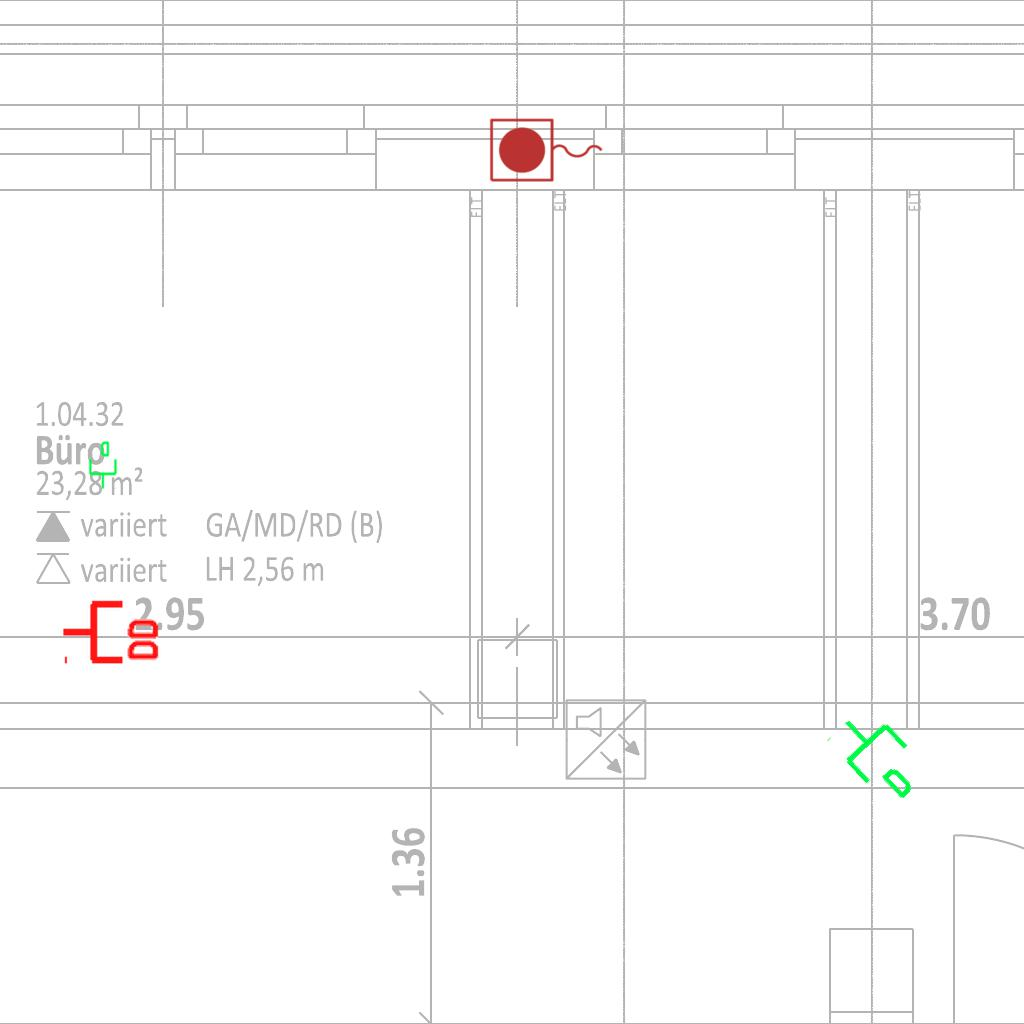Datenanschluss_einfach: (821, 694, 940, 816), (85, 440, 119, 490)
Datenanschluss_zweifach: (60, 596, 163, 665)
Zugtaster: (486, 115, 608, 187)
